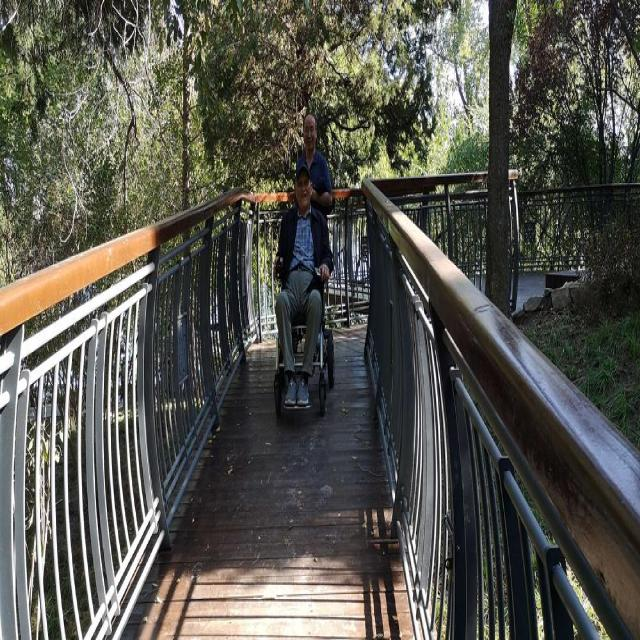wheelchairs: (268, 241, 339, 429)
